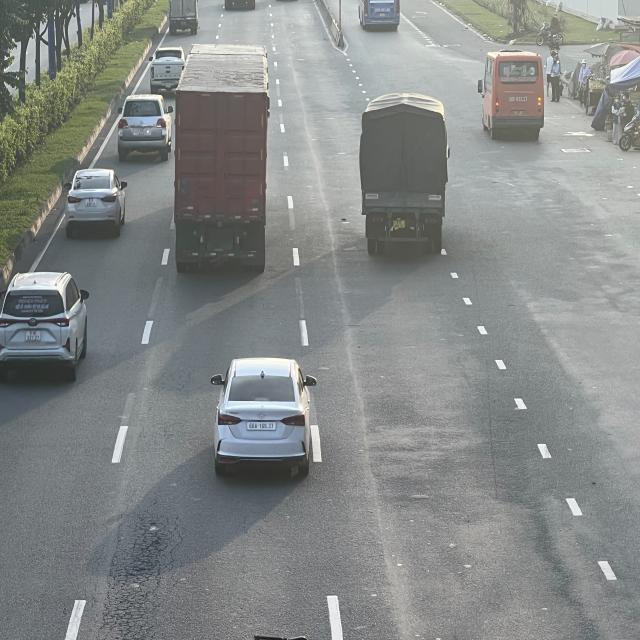car: (212, 358, 317, 480), (0, 272, 87, 379), (64, 169, 127, 238), (119, 94, 175, 161), (151, 46, 186, 94)
coach: (356, 0, 399, 32)
container: (170, 46, 268, 277)
truck: (358, 92, 448, 257), (168, 0, 199, 34)
van: (477, 48, 545, 136)
